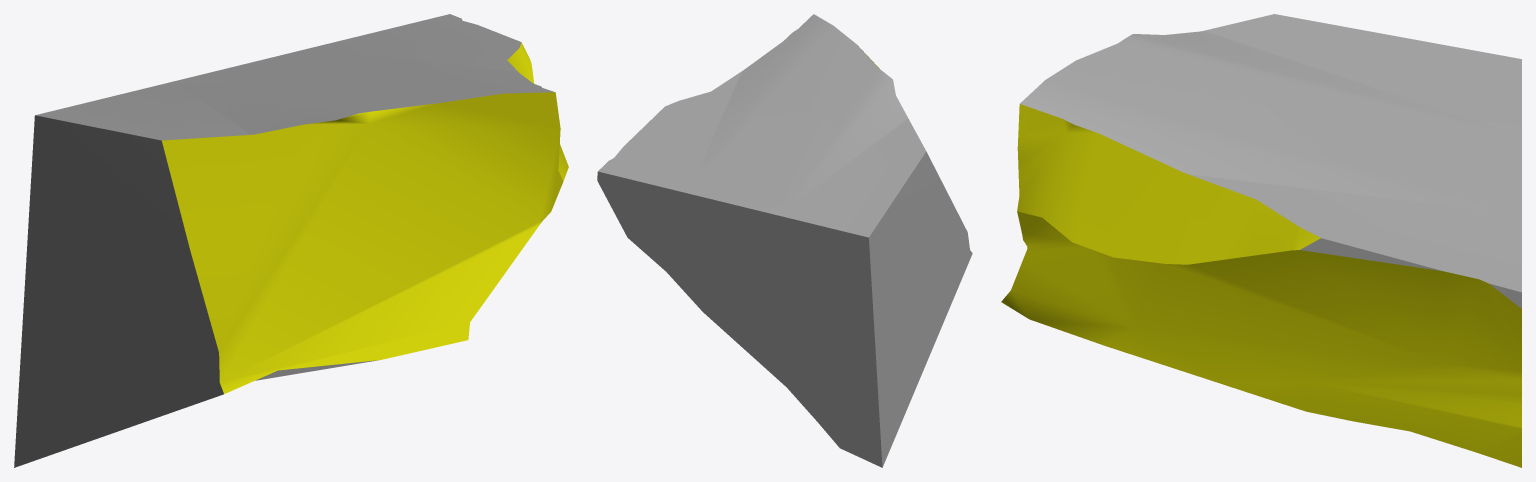
File: Bridge10.fbx
3 views of the same model, side by side, from view 1: azimuth 30°, elevation 25°; view 2: azimuth 150°, elevation 25°; view 3: azimuth 270°, elevation 25° (orthographic). The views are drawn at different scales.
Parts seen in each view (by area): view 1: shard8; view 2: shard8; view 3: shard8.
Part boxes in pixels (bbox=[...]): shard8: bbox=[14, 14, 568, 467]; shard8: bbox=[597, 14, 972, 467]; shard8: bbox=[1001, 14, 1521, 467].
Bounding box in the file's own units: 132 × 131 × 118.
